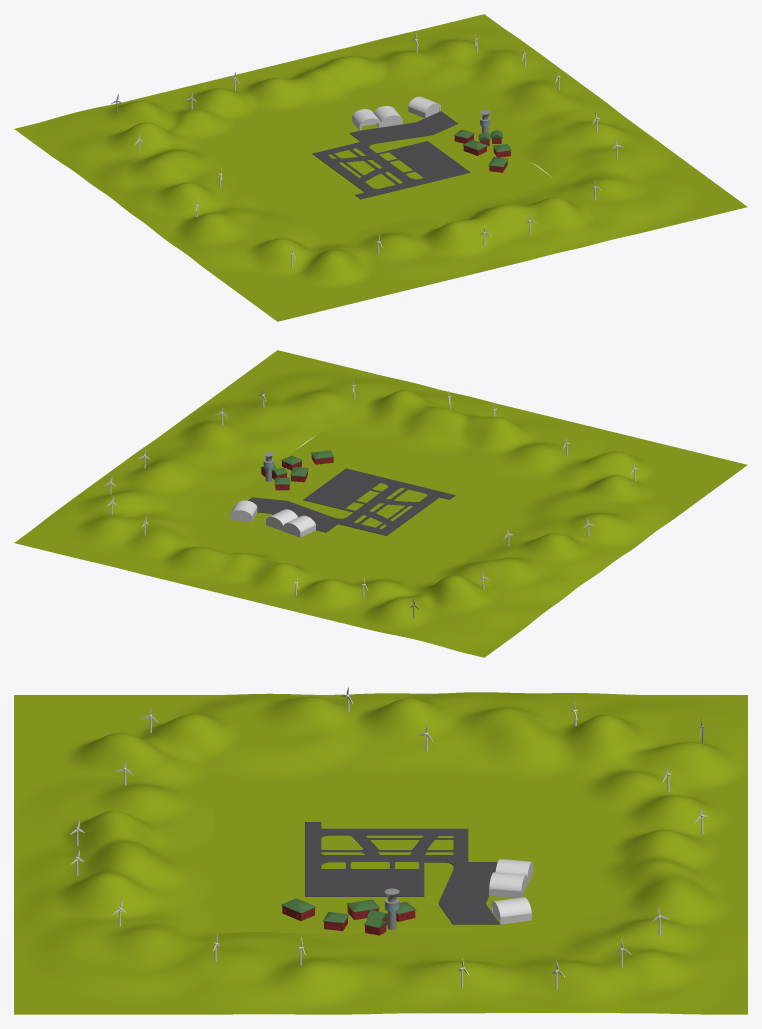
The model's file is Assembled Scene.fbx.
The picture shows the model from 3 angles, top to bottom: view 1: azimuth 30°, elevation 25°; view 2: azimuth 150°, elevation 25°; view 3: azimuth 270°, elevation 25°; orthographic projection. The views are drawn at different scales.
Parts seen in each view (by area): view 1: Mountain, G12, Airport; view 2: Mountain, G12, Airport, Airplane_Garage1; view 3: Mountain, G12, Airport, Airplane_Garage3, Airplane_Garage2, Airplane_Garage1, Environment_Houses4.
Boxes of the visible parts, x1,y1,x2,y2 form: Mountain: [14, 14, 747, 321]; G12: [210, 89, 557, 237]; Airport: [312, 111, 470, 199]; Mountain: [14, 350, 747, 657]; G12: [196, 431, 546, 578]; Airport: [248, 468, 455, 535]; Airplane_Garage1: [283, 515, 315, 537]; Mountain: [14, 692, 747, 1014]; G12: [212, 783, 571, 934]; Airport: [305, 822, 500, 924]; Airplane_Garage3: [491, 897, 531, 924]; Airplane_Garage2: [489, 872, 527, 897]; Airplane_Garage1: [495, 859, 533, 884]; Environment_Houses4: [281, 898, 315, 920].
Size of the model in its own units: 1389 by 90.35 by 1348.
